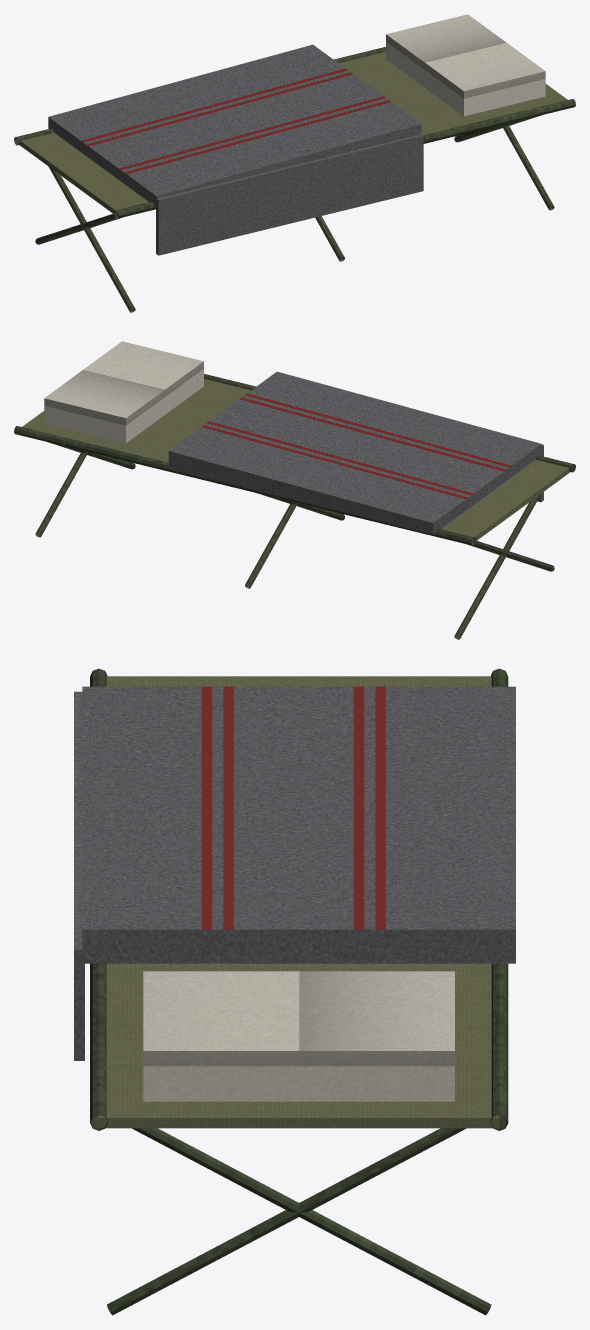
Rendered from SM_OpRoom_Cot.fbx.
3 renders of one model, top to bottom at view 1: azimuth 30°, elevation 25°; view 2: azimuth 150°, elevation 25°; view 3: azimuth 270°, elevation 25°, orthographic. The views are drawn at different scales.
Parts seen in each view (by area): view 1: Cot; view 2: Cot; view 3: Cot.
Boxes of the visible parts, bbox=[...] form: Cot: bbox=[14, 14, 575, 312]; Cot: bbox=[14, 341, 575, 639]; Cot: bbox=[74, 668, 515, 1315].
Bounding box in the file's own units: 1.9 × 0.5284 × 0.795.
Materials: 4 (4 with a texture image).
